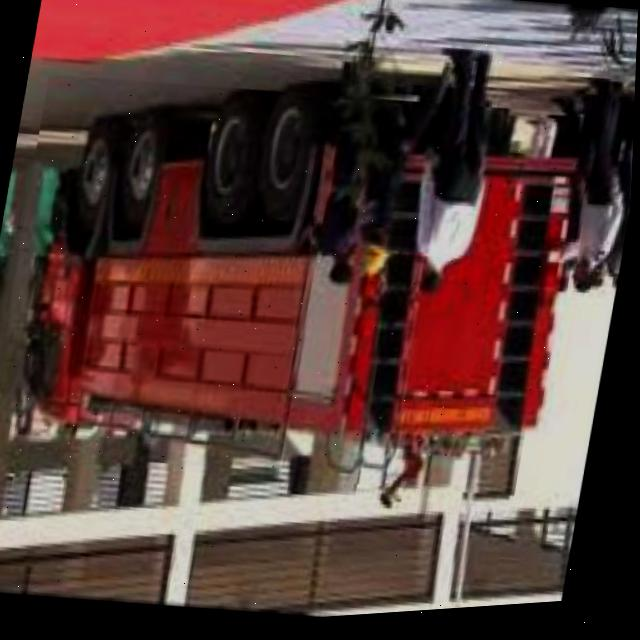Fire Truck: (0, 47, 606, 535)
